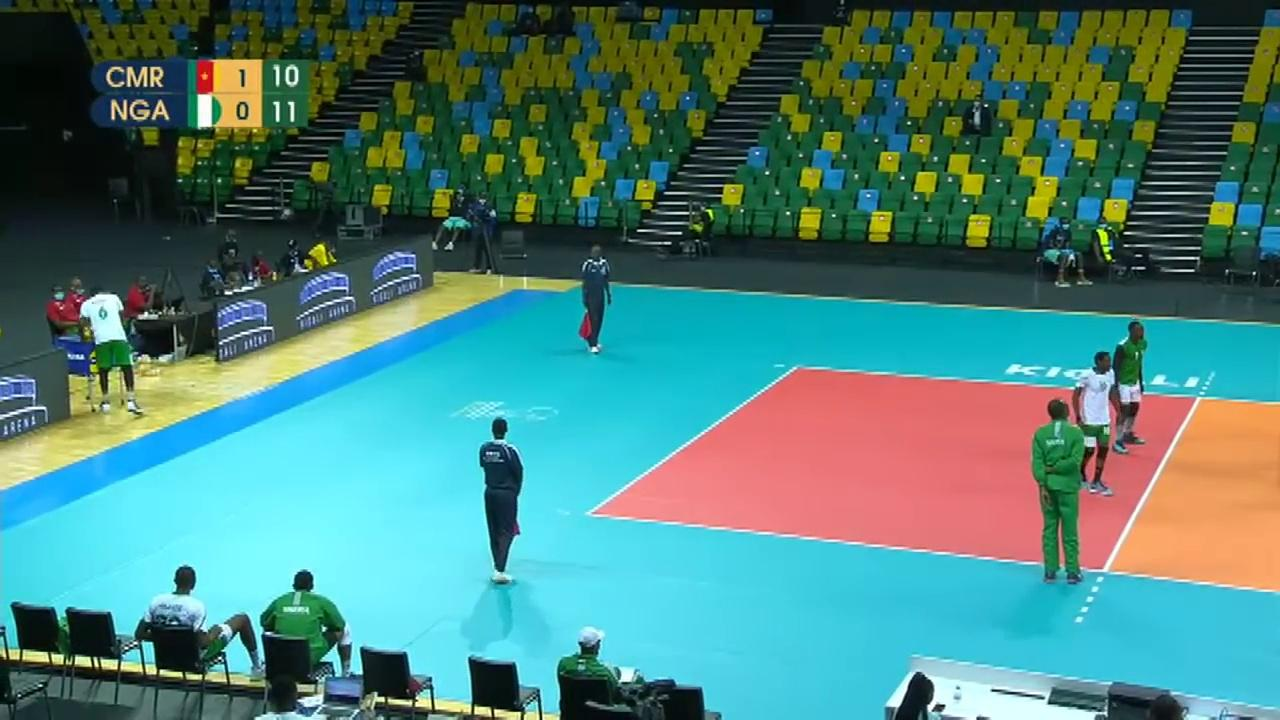player: (81, 283, 143, 416), (1074, 346, 1119, 494), (1110, 320, 1151, 448)
refree: (478, 419, 527, 580), (579, 245, 614, 355)
